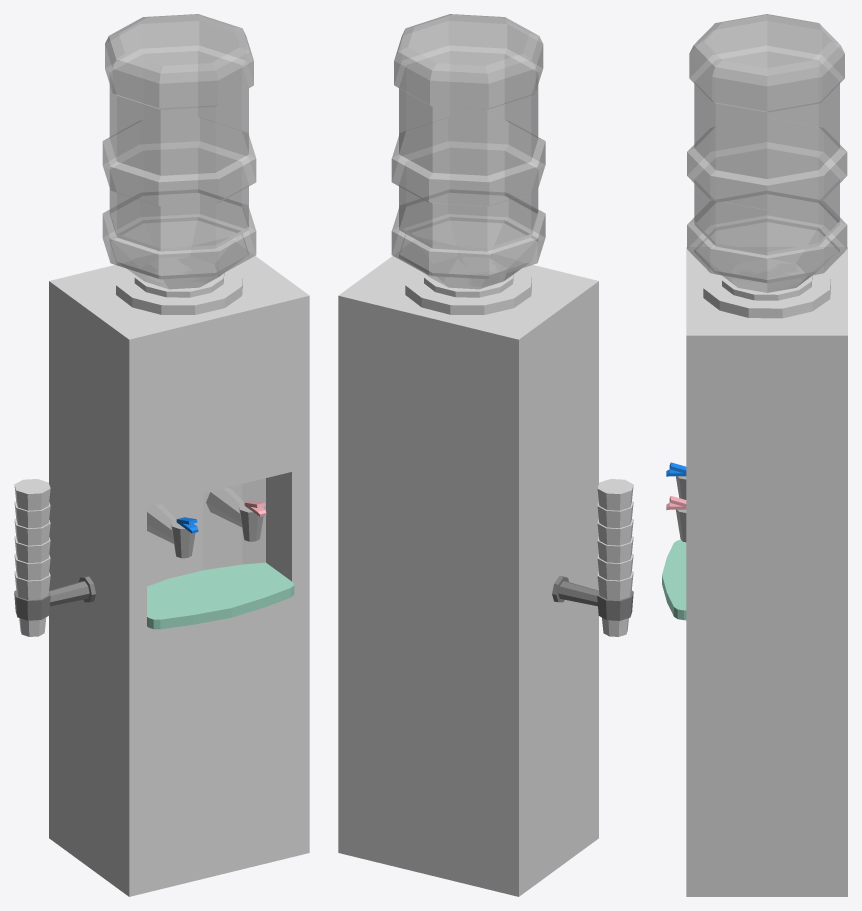
File: Water_Dispenser_Grey&Bege.fbx
3 views of the same model, side by side, from view 1: azimuth 30°, elevation 25°; view 2: azimuth 150°, elevation 25°; view 3: azimuth 270°, elevation 25° (orthographic).
Parts seen in each view (by area): view 1: Water_Dispenser.003; view 2: Water_Dispenser.003; view 3: Water_Dispenser.003.
Part boxes in pixels (x1=…): Water_Dispenser.003: x1=14, y1=14, x2=309, y2=896; Water_Dispenser.003: x1=338, y1=14, x2=633, y2=896; Water_Dispenser.003: x1=662, y1=14, x2=847, y2=896.
Bounding box in the file's own units: 54.75 × 166 × 34.52.
